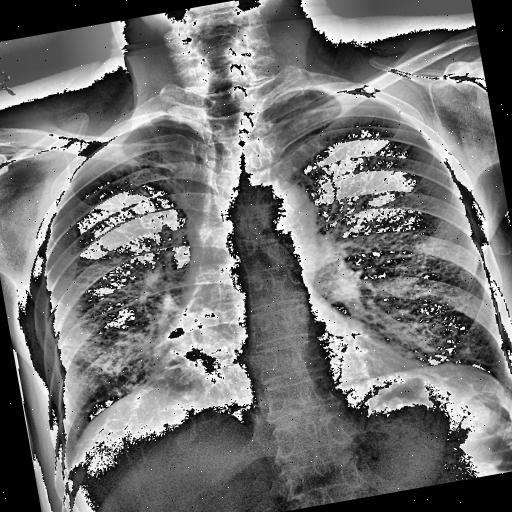0- Aortic enlargement: (236, 171, 316, 238)
11- Pleural thickening: (358, 86, 396, 116), (134, 112, 182, 129)
13- Pulmonary fibrosis: (106, 254, 236, 404), (58, 310, 230, 418)
5- ILD: (362, 227, 482, 377), (84, 314, 165, 386)
6- Infiltration: (58, 310, 230, 418)
9- Other lesion: (130, 228, 264, 423)
